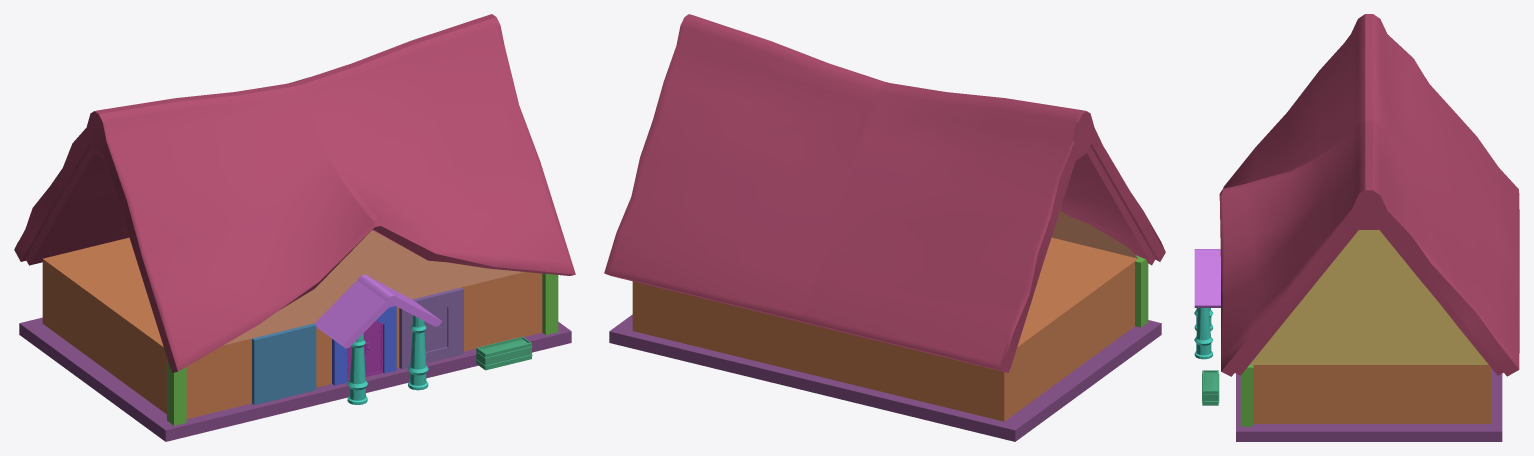
File: model_house2_low.fbx
3 renders of one model, left to right at view 1: azimuth 30°, elevation 25°; view 2: azimuth 150°, elevation 25°; view 3: azimuth 270°, elevation 25°, orthographic. The views are drawn at different scales.
Visible parts, largest first — view 1: pasted__roof_top, pasted__house_wall28, pasted__house_wall1, pasted__roof_face_2, pasted__house_wall, pasted__pasted__roof_top, pasted__house_wall4, pasted__house_wall_door4, pasted__pCube29, pasted__house_pilar, pasted__house_edge, pasted__pCube42 (+2 smaller); view 2: pasted__roof_top, pasted__house_wall28, pasted__house_wall1, pasted__roof_face_2, pasted__house_edge; view 3: pasted__roof_top, pasted__roof_face, pasted__house_wall28, pasted__house_wall1, pasted__pasted__roof_top, pasted__house_edge1, pasted__house_pilar, pasted__pCube29.
Boxes of the visible parts, x1=… form: pasted__roof_top: x1=14, y1=14, x2=575, y2=372; pasted__house_wall28: x1=42, y1=237, x2=542, y2=418; pasted__house_wall1: x1=19, y1=317, x2=571, y2=441; pasted__roof_face_2: x1=223, y1=230, x2=523, y2=345; pasted__house_wall: x1=252, y1=323, x2=316, y2=405; pasted__pasted__roof_top: x1=314, y1=274, x2=441, y2=348; pasted__house_wall4: x1=399, y1=287, x2=463, y2=368; pasted__house_wall_door4: x1=332, y1=306, x2=396, y2=385; pasted__pCube29: x1=476, y1=336, x2=532, y2=370; pasted__house_pilar: x1=408, y1=315, x2=428, y2=390; pasted__house_edge: x1=167, y1=358, x2=186, y2=425; pasted__pCube42: x1=347, y1=320, x2=382, y2=381; pasted__roof_top: x1=604, y1=14, x2=1165, y2=372; pasted__house_wall28: x1=632, y1=237, x2=1137, y2=421; pasted__house_wall1: x1=609, y1=314, x2=1161, y2=441; pasted__roof_face_2: x1=1051, y1=210, x2=1137, y2=258; pasted__house_edge: x1=1135, y1=255, x2=1148, y2=327; pasted__roof_top: x1=1219, y1=14, x2=1519, y2=376; pasted__roof_face: x1=1249, y1=230, x2=1488, y2=364; pasted__house_wall28: x1=1253, y1=365, x2=1490, y2=423; pasted__house_wall1: x1=1236, y1=368, x2=1502, y2=441; pasted__pasted__roof_top: x1=1194, y1=249, x2=1220, y2=307; pasted__house_edge1: x1=1240, y1=365, x2=1253, y2=426; pasted__house_pilar: x1=1194, y1=308, x2=1213, y2=359; pasted__pCube29: x1=1202, y1=370, x2=1219, y2=405.
Bounding box in the file's own units: 1312 × 847 × 1001.
